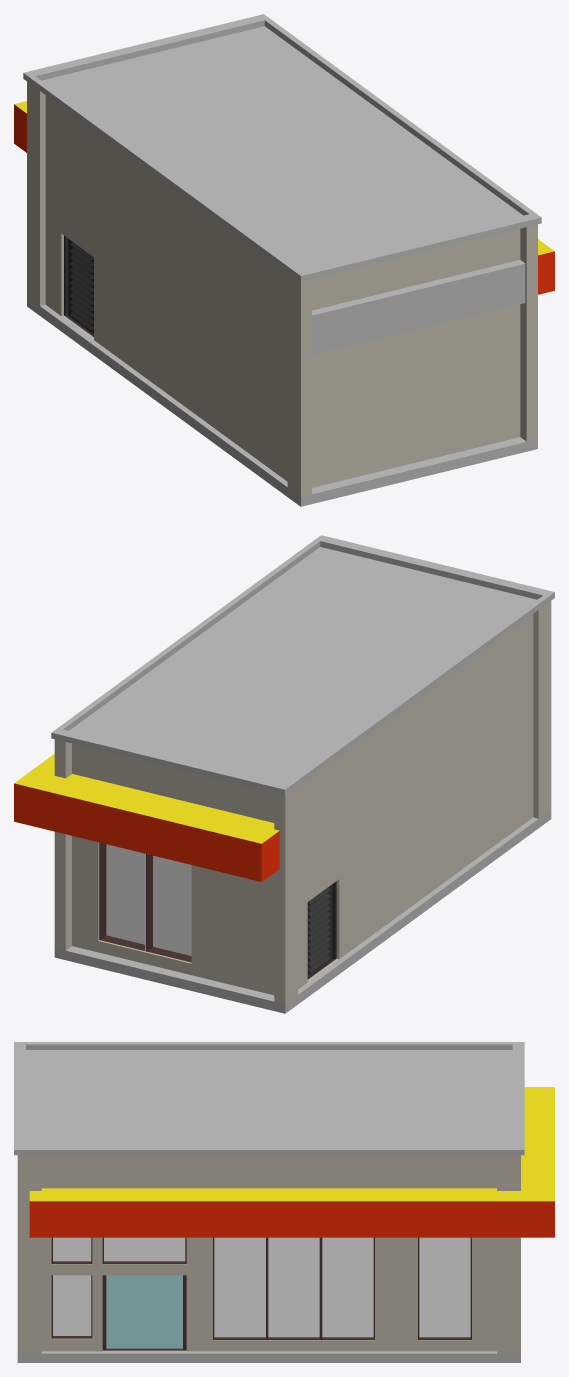
The model's file is building12.fbx.
The picture shows the model from 3 angles, top to bottom: view 1: azimuth 30°, elevation 25°; view 2: azimuth 150°, elevation 25°; view 3: azimuth 270°, elevation 25°; orthographic projection. The views are drawn at different scales.
Parts seen in each view (by area): view 1: building_016; view 2: building_016; view 3: building_016.
Boxes of the visible parts, box(x1,y1,x2,y2) form: building_016: box(14, 14, 554, 506); building_016: box(14, 535, 554, 1013); building_016: box(14, 1042, 554, 1362).
Size of the model in its own units: 13.94 by 11.8 by 27.09.
